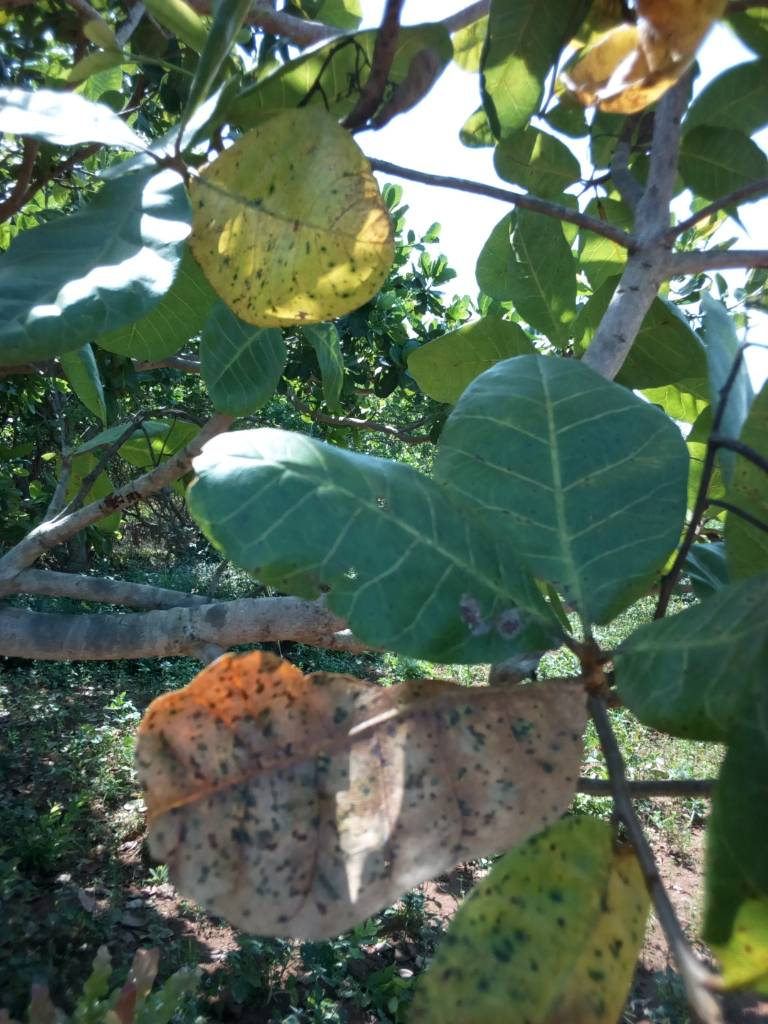Bactériose: (138, 666, 597, 930), (271, 450, 579, 655), (183, 111, 390, 322), (418, 839, 649, 1024)
